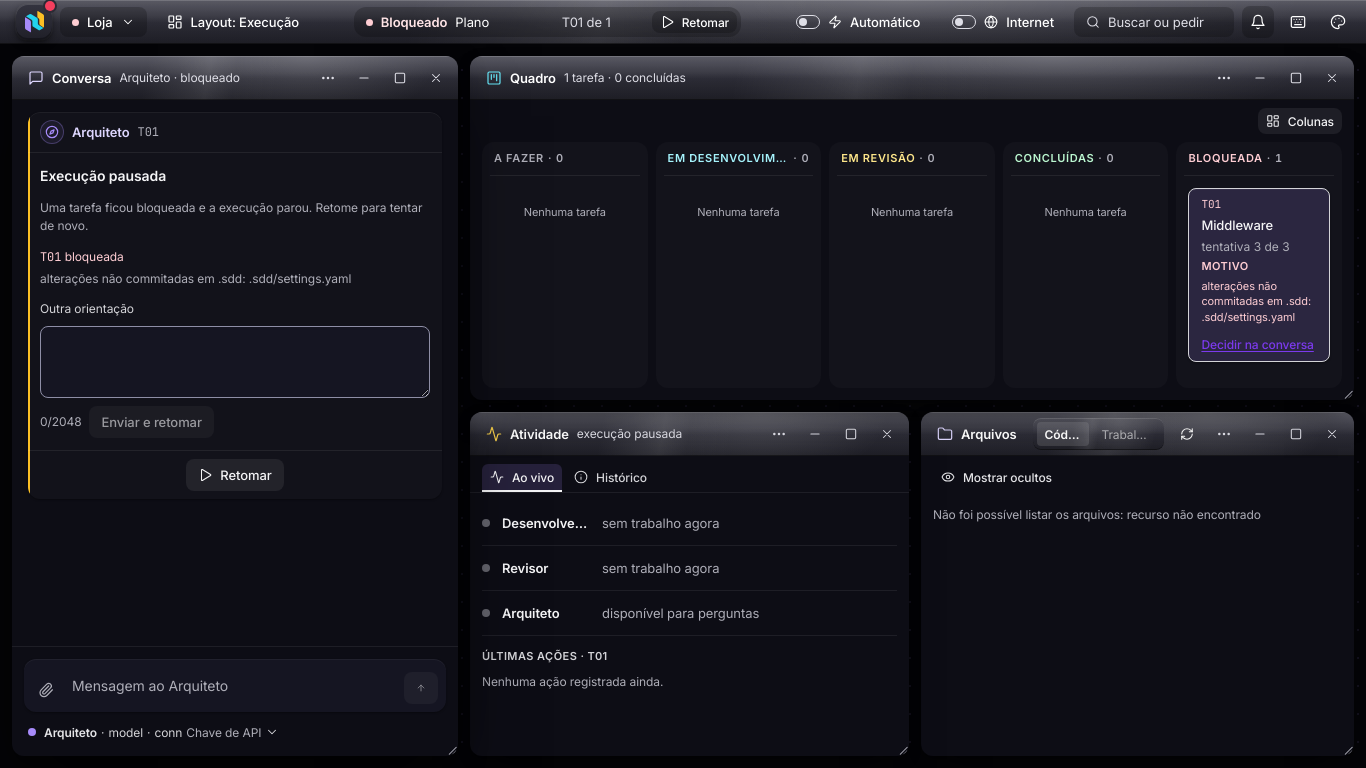
Scenario: Execução pausada na Conversa › 422 de agente não configurado oferece Configurar na aba Agentes
Click the button "Retomar" below "2048".
click(235, 476)  # box [186,460,284,492]
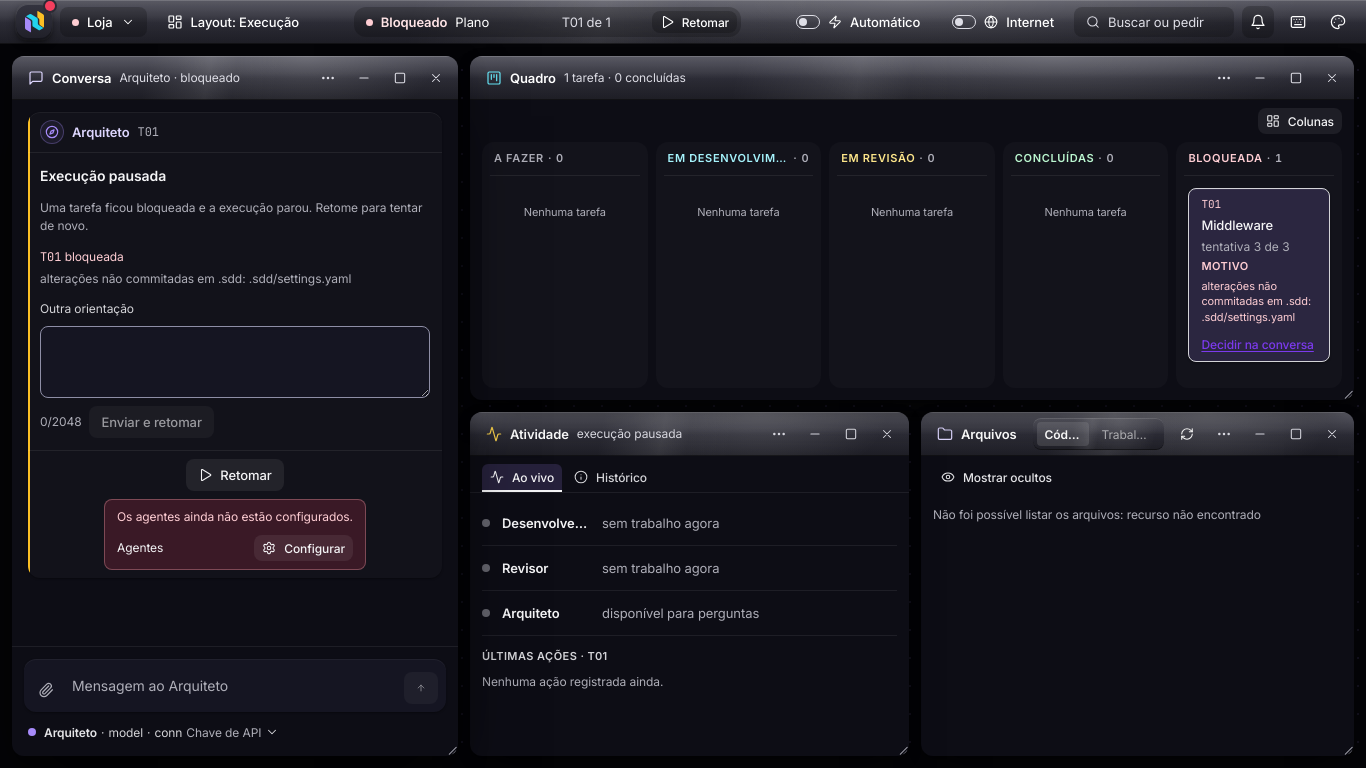
Now the message "Os agentes ainda não estão configurados. Agentes Configurar" is shown, box [104,500,366,570]
